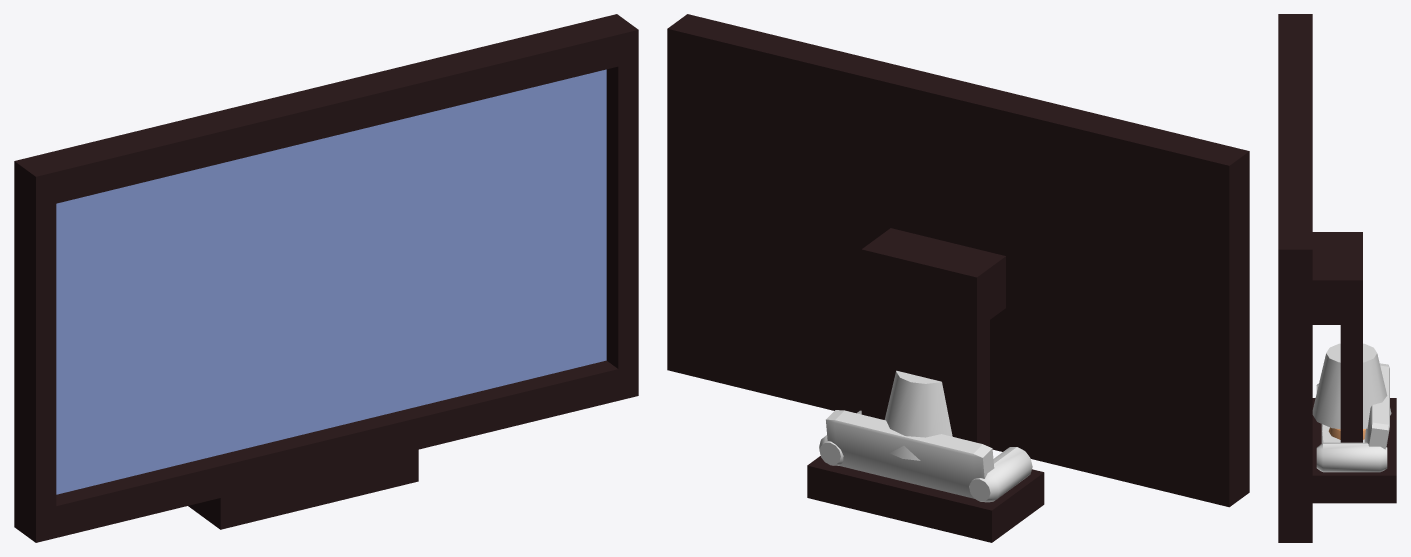
Rendered from furniture1.fbx.
3 renders of one model, left to right at view 1: azimuth 30°, elevation 25°; view 2: azimuth 150°, elevation 25°; view 3: azimuth 270°, elevation 25°, orthographic. The views are drawn at different scales.
Parts seen in each view (by area): view 1: TV1; view 2: TV1, Sofa1, Lamp1; view 3: TV1, Sofa1, Lamp1.
Part boxes in pixels (left/top/right/bottom): TV1: left=14, top=14, right=638, bottom=542; TV1: left=667, top=14, right=1249, bottom=542; Sofa1: left=819, top=410, right=1032, bottom=502; Lamp1: left=884, top=370, right=952, bottom=460; TV1: left=1278, top=14, right=1396, bottom=542; Sofa1: left=1316, top=363, right=1389, bottom=472; Lamp1: left=1312, top=343, right=1391, bottom=439.
Bounding box in the file's own units: 3636 × 2409 × 773.
